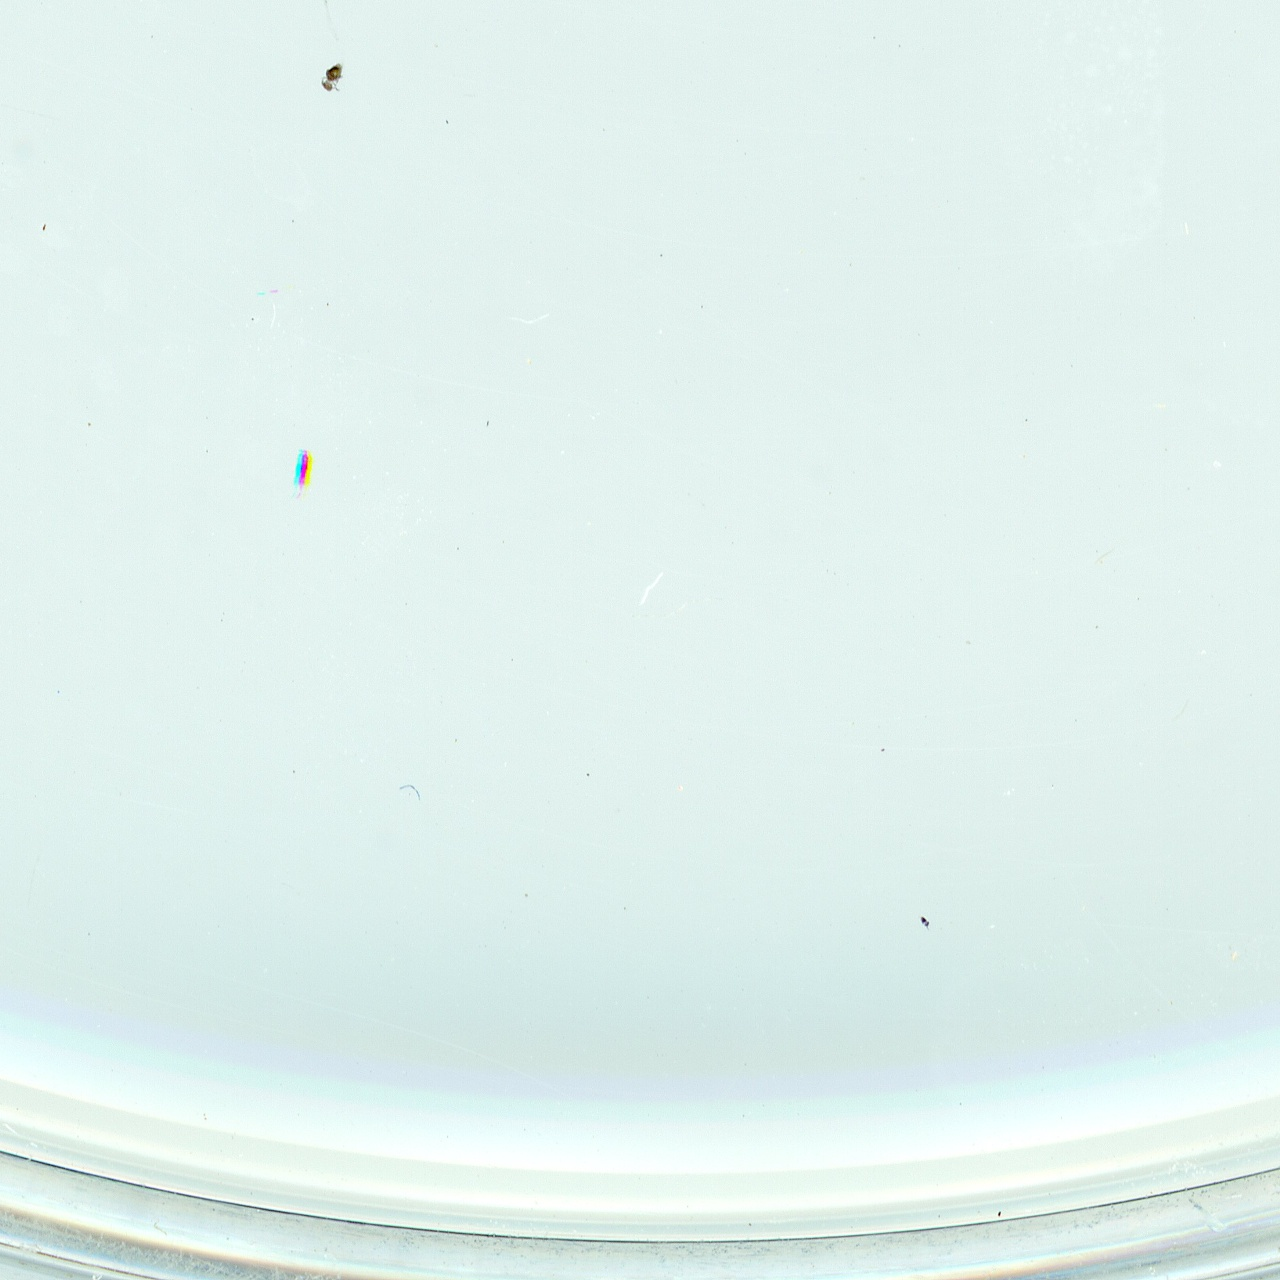arthropod: (284, 441, 322, 508), (320, 57, 347, 95)
